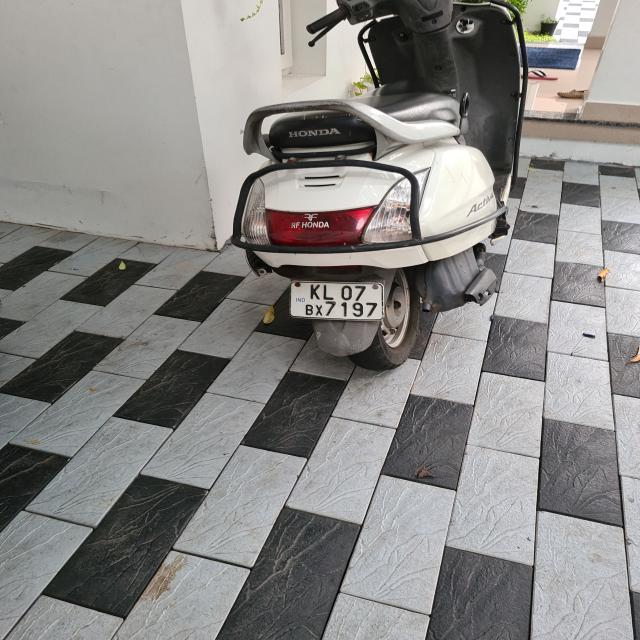Number_Plate_Detected: (290, 280, 388, 322)
